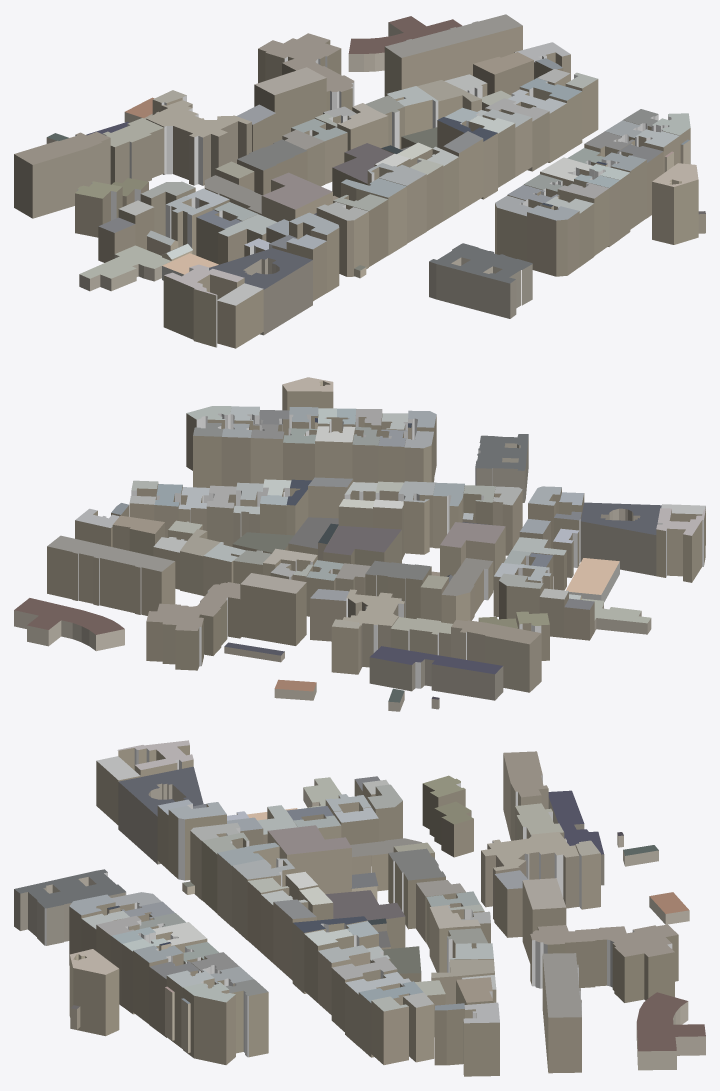
The picture shows the model from 3 angles, top to bottom: view 1: azimuth 30°, elevation 25°; view 2: azimuth 150°, elevation 25°; view 3: azimuth 270°, elevation 25°; orthographic projection. The views are drawn at different scales.
Visible parts, largest first — view 1: tuile; view 2: tuile; view 3: tuile.
Part boxes in pixels (x1,y1,x2,y2): tuile: (14,14,705,348); tuile: (14,377,705,711); tuile: (14,740,705,1076).
Size of the model in its own units: 280 by 38.24 by 283.
